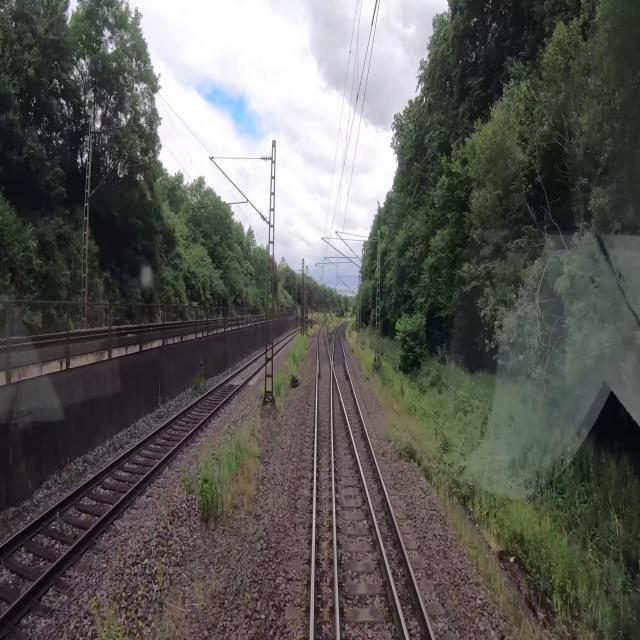Plant: (197, 409, 272, 527), (157, 562, 221, 639), (260, 324, 318, 406), (89, 597, 124, 639), (384, 414, 415, 461), (184, 472, 195, 493), (194, 383, 206, 396)
